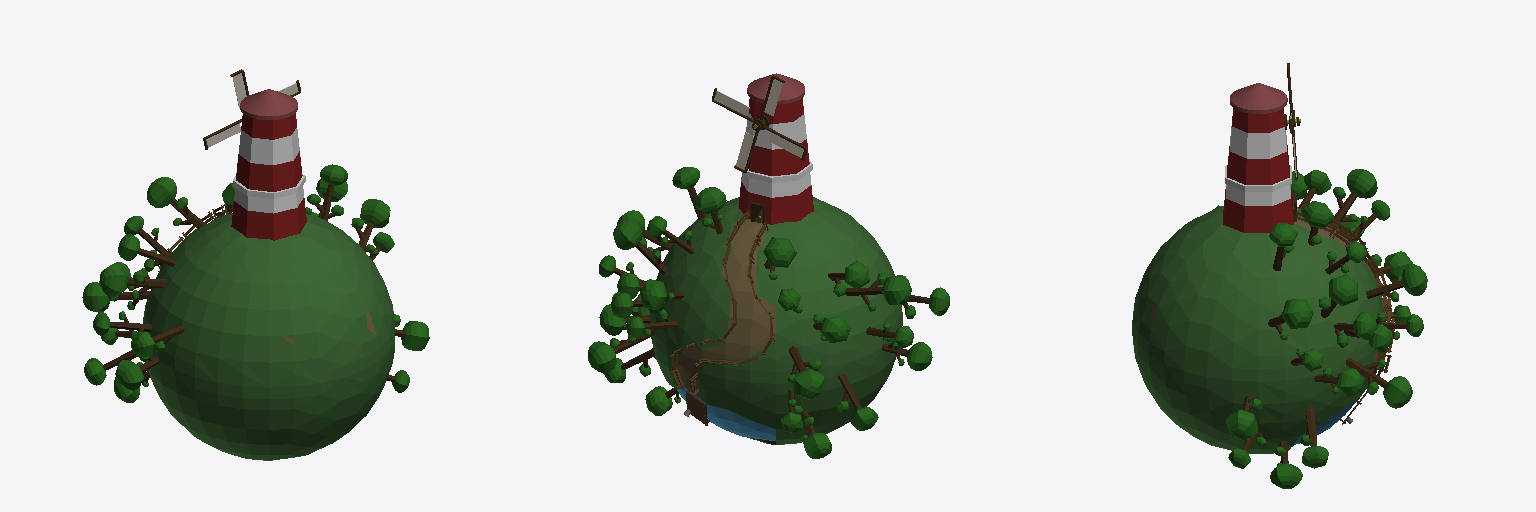
The model's file is WIndmill.obj.
3 renders of one model, left to right at view 1: azimuth 30°, elevation 25°; view 2: azimuth 150°, elevation 25°; view 3: azimuth 270°, elevation 25°, orthographic.
Visible parts, largest first — view 1: pSphere2 polySurface28, pCylinder3, pCylinder1, pCylinder4, Low_Poly_Trees:pSphere1 polySurface106, Low_Poly_Trees:pSphere1 polySurface112, Low_Poly_Trees:pSphere1 polySurface114, Low_Poly_Trees:pSphere1 polySurface113, Low_Poly_Trees:pSphere5 polySurface112, Low_Poly_Trees:pSphere1 polySurface111, pCylinder2; view 2: pSphere2 polySurface28, pCylinder3, pCylinder1, polySurface27 pSphere2, pCylinder4, Low_Poly_Trees:pSphere1 polySurface106, Low_Poly_Trees:pSphere1 polySurface111, Low_Poly_Trees:pSphere1 polySurface112, Low_Poly_Trees:pSphere1 polySurface107, Low_Poly_Trees:pSphere1 polySurface1, Low_Poly_Trees:pSphere5 polySurface110, Low_Poly_Trees:pSphere5 polySurface5 (+5 smaller); view 3: pSphere2 polySurface28, pCylinder3, pCylinder1, pCylinder4, Low_Poly_Trees:pSphere1 polySurface113, Low_Poly_Trees:pSphere1 polySurface114, Low_Poly_Trees:pSphere1 polySurface1, Low_Poly_Trees:pSphere1 polySurface107, Low_Poly_Trees:pSphere1 polySurface106, Low_Poly_Trees:pSphere5 polySurface110, Low_Poly_Trees:pSphere5 polySurface114, Low_Poly_Trees:pSphere5 polySurface5 (+2 smaller).
Boxes of the visible parts, x1=… form: pSphere2 polySurface28: x1=143, y1=213, x2=394, y2=460; pCylinder3: x1=236, y1=113, x2=302, y2=191; pCylinder1: x1=231, y1=186, x2=306, y2=240; pCylinder4: x1=240, y1=89, x2=297, y2=119; Low_Poly_Trees:pSphere1 polySurface106: x1=147, y1=177, x2=176, y2=207; Low_Poly_Trees:pSphere1 polySurface112: x1=99, y1=264, x2=127, y2=296; Low_Poly_Trees:pSphere1 polySurface114: x1=401, y1=321, x2=429, y2=350; Low_Poly_Trees:pSphere1 polySurface113: x1=360, y1=199, x2=390, y2=227; Low_Poly_Trees:pSphere5 polySurface112: x1=115, y1=360, x2=143, y2=390; Low_Poly_Trees:pSphere1 polySurface111: x1=82, y1=282, x2=109, y2=312; pCylinder2: x1=233, y1=174, x2=305, y2=198; pSphere2 polySurface28: x1=650, y1=197, x2=902, y2=444; pCylinder3: x1=746, y1=97, x2=809, y2=175; pCylinder1: x1=738, y1=172, x2=813, y2=224; polySurface27 pSphere2: x1=677, y1=388, x2=775, y2=440; pCylinder4: x1=747, y1=73, x2=804, y2=104; Low_Poly_Trees:pSphere1 polySurface106: x1=763, y1=237, x2=796, y2=267; Low_Poly_Trees:pSphere1 polySurface111: x1=794, y1=368, x2=823, y2=399; Low_Poly_Trees:pSphere1 polySurface112: x1=882, y1=275, x2=911, y2=304; Low_Poly_Trees:pSphere1 polySurface107: x1=588, y1=341, x2=616, y2=372; Low_Poly_Trees:pSphere1 polySurface1: x1=613, y1=219, x2=642, y2=249; Low_Poly_Trees:pSphere5 polySurface110: x1=640, y1=279, x2=666, y2=310; Low_Poly_Trees:pSphere5 polySurface5: x1=695, y1=187, x2=726, y2=213; pSphere2 polySurface28: x1=1132, y1=206, x2=1383, y2=453; pCylinder3: x1=1227, y1=108, x2=1289, y2=184; pCylinder1: x1=1223, y1=184, x2=1293, y2=232; pCylinder4: x1=1230, y1=83, x2=1287, y2=113; Low_Poly_Trees:pSphere1 polySurface113: x1=1282, y1=299, x2=1313, y2=328; Low_Poly_Trees:pSphere1 polySurface114: x1=1226, y1=409, x2=1257, y2=439; Low_Poly_Trees:pSphere1 polySurface1: x1=1329, y1=274, x2=1357, y2=305; Low_Poly_Trees:pSphere1 polySurface107: x1=1383, y1=376, x2=1412, y2=408; Low_Poly_Trees:pSphere1 polySurface106: x1=1347, y1=169, x2=1377, y2=198; Low_Poly_Trees:pSphere5 polySurface110: x1=1401, y1=264, x2=1427, y2=295; Low_Poly_Trees:pSphere5 polySurface114: x1=1270, y1=463, x2=1302, y2=488; Low_Poly_Trees:pSphere5 polySurface5: x1=1302, y1=201, x2=1333, y2=228.
Size of the model in its own units: 48.12 by 55.94 by 40.3.